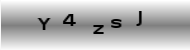4: (60, 12, 77, 27)
J: (135, 10, 144, 27)
Y: (36, 17, 51, 32)
s: (109, 17, 124, 29)
z: (91, 23, 106, 35)
